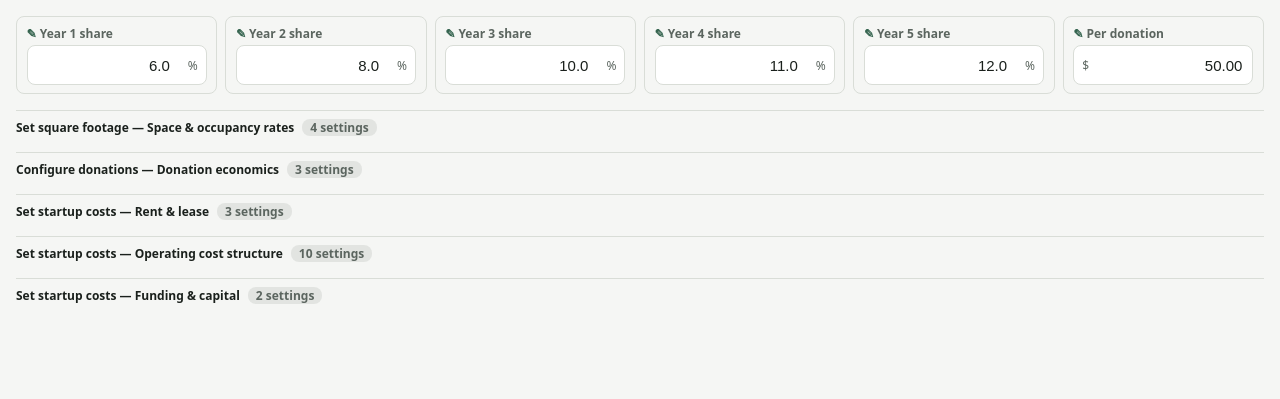
Test: SettingsTab — grouped by wizard steps (Task 3.1) › loads each group collapsed — the group's fields are hidden until the summary is expanded
The width and height of the screenshot is (1280, 399).
Expected: the field labelled "reserve buffer" is not shown
Click the heading "Set startup costs — Funding & capital 2 settings".
click(169, 296)  # box [16,287,322,304]
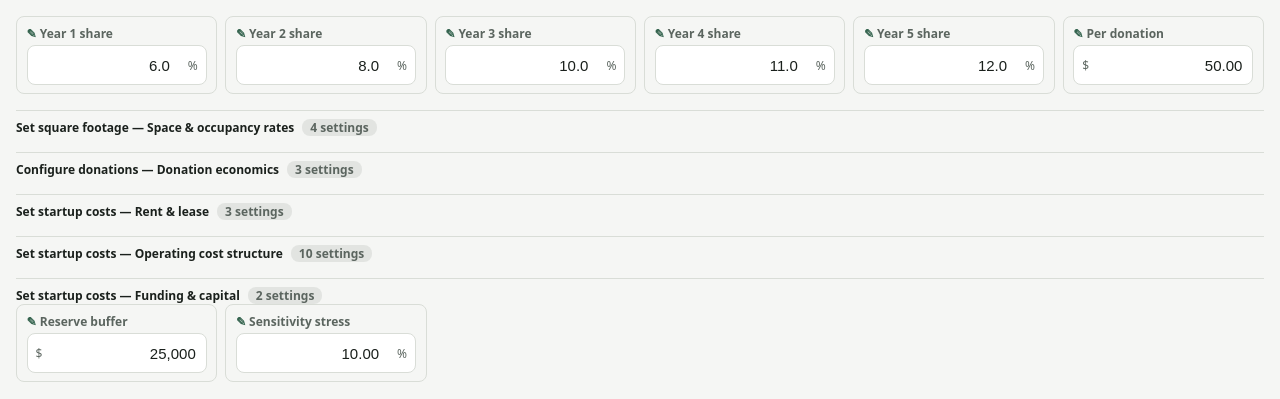
Result: the field named "reserve buffer" is shown at [50,345,206,362]
